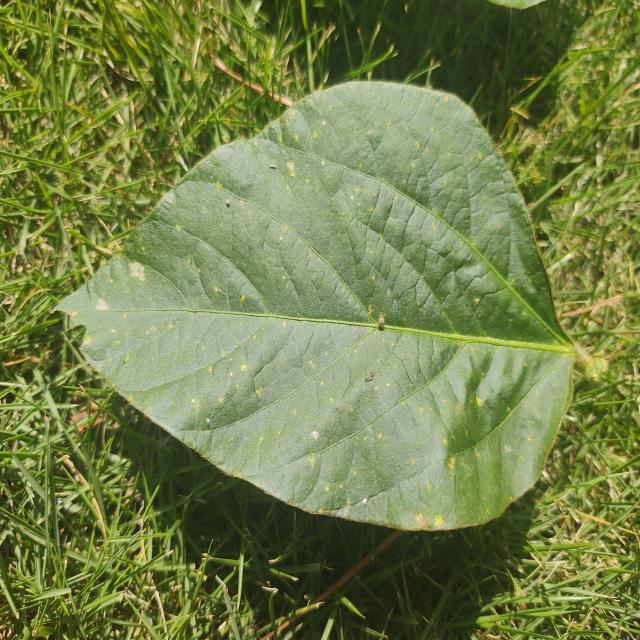Soybean: (56, 81, 578, 535)
downey_mildew: (450, 200, 575, 354), (457, 356, 570, 467), (308, 217, 422, 306), (257, 321, 351, 421), (355, 394, 436, 496), (88, 304, 369, 333), (306, 227, 382, 323), (174, 235, 269, 310), (443, 428, 482, 523), (471, 423, 506, 521), (549, 190, 591, 268), (502, 2, 516, 133)
